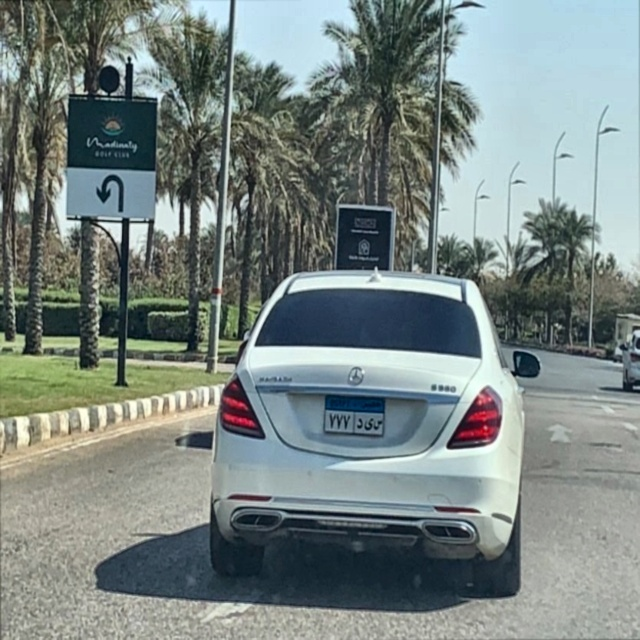License Plate: (322, 394, 385, 437)
